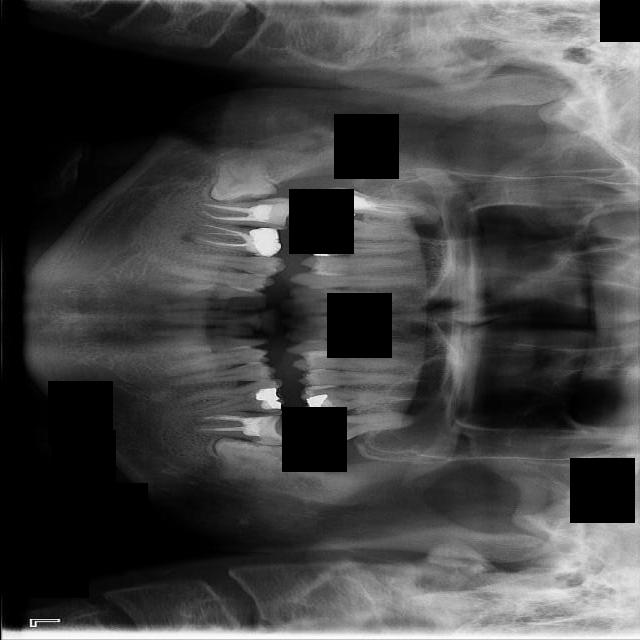52: (299, 413, 363, 445), (244, 195, 296, 231), (240, 376, 285, 417), (243, 408, 290, 447), (315, 184, 366, 219), (300, 385, 353, 416), (239, 224, 282, 259), (303, 213, 356, 241), (303, 237, 347, 257)
73: (186, 218, 245, 254), (193, 406, 248, 439), (355, 194, 423, 220), (196, 200, 251, 226), (51, 566, 61, 570)
BioHorizons Implant: (298, 410, 413, 446)
Biomet 3i Implant: (211, 436, 287, 491)
Blue Sky Bio Implant: (193, 409, 288, 446)
Caries: (315, 185, 426, 225)
Implant: (196, 190, 295, 231)
Keystone Dental Implant: (205, 150, 277, 208)
